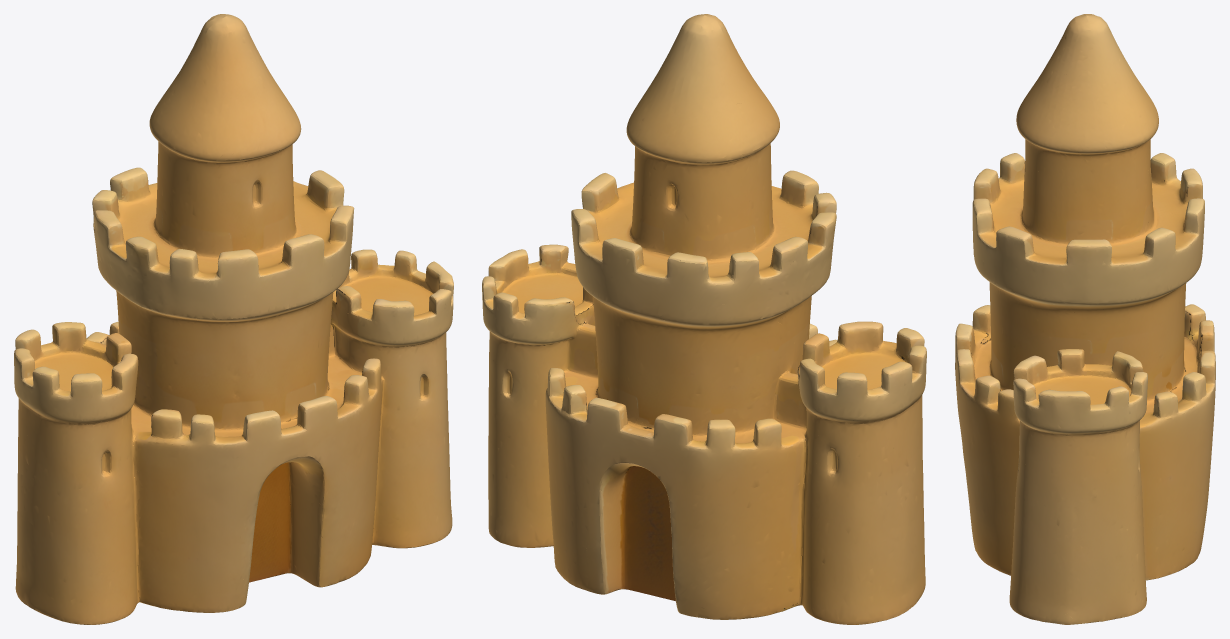
The model's file is castillo.glb.
3 views of the same model, side by side, from view 1: azimuth 30°, elevation 25°; view 2: azimuth 150°, elevation 25°; view 3: azimuth 270°, elevation 25° (orthographic). The views are drawn at different scales.
Parts seen in each view (by area): view 1: model; view 2: model; view 3: model.
Boxes of the visible parts, x1=… form: model: x1=14, y1=14, x2=453, y2=624; model: x1=482, y1=14, x2=926, y2=624; model: x1=955, y1=14, x2=1215, y2=624.
Size of the model in its own units: 1.53 by 1.9 by 0.8737.
1 material, 1 textured.
